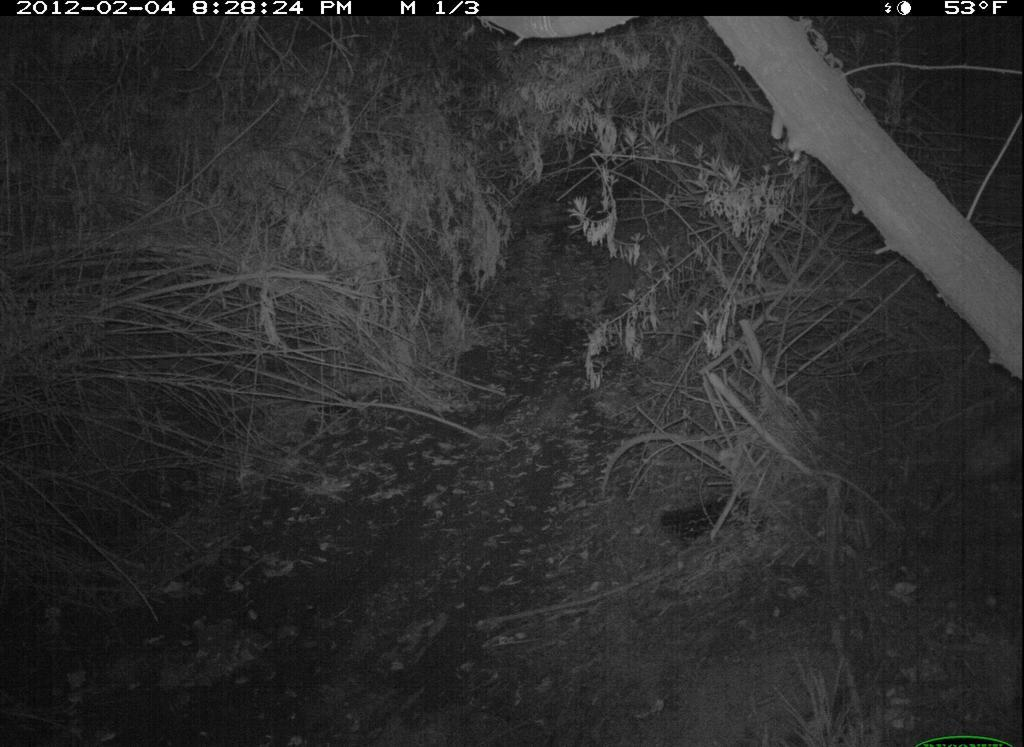opossum: (923, 408, 1023, 529)
